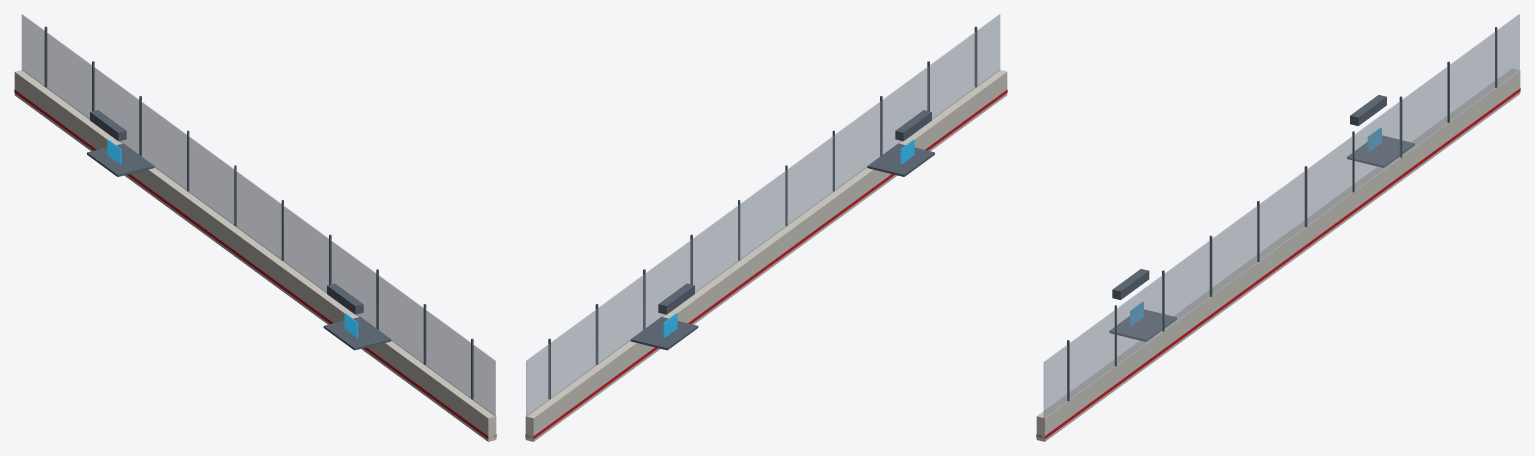
File: pit_wall_40m.glb
3 renders of one model, left to right at view 1: azimuth 30°, elevation 25°; view 2: azimuth 150°, elevation 25°; view 3: azimuth 330°, elevation 25°, orthographic.
Visible parts, largest first — view 1: pitwall; view 2: pitwall; view 3: pitwall.
Boxes of the visible parts, x1,y1,x2,y2 form: pitwall: (14, 14, 496, 441); pitwall: (525, 14, 1007, 441); pitwall: (1036, 14, 1520, 441).
Bounding box in the file's own units: 1.92 × 3.9 × 40.
